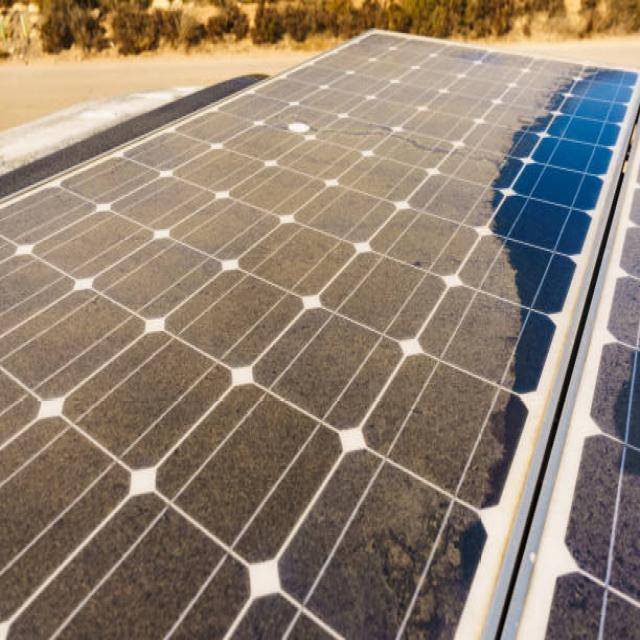faulty: (0, 25, 636, 640)
